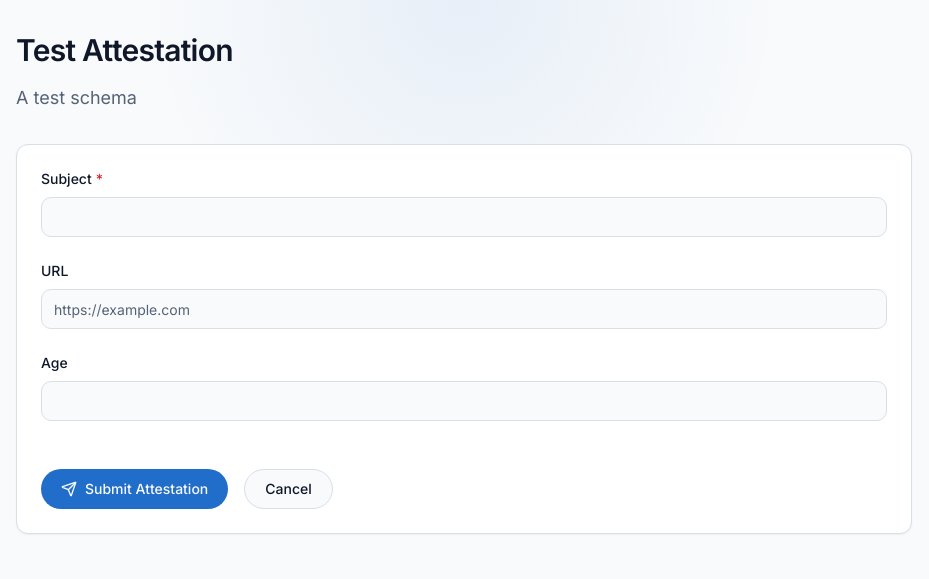
Test: AttestationForm › shows validation error for missing required field
The image size is (929, 579).
Click the button "Submit Attestation": [135, 489] box [41,469,228,509]
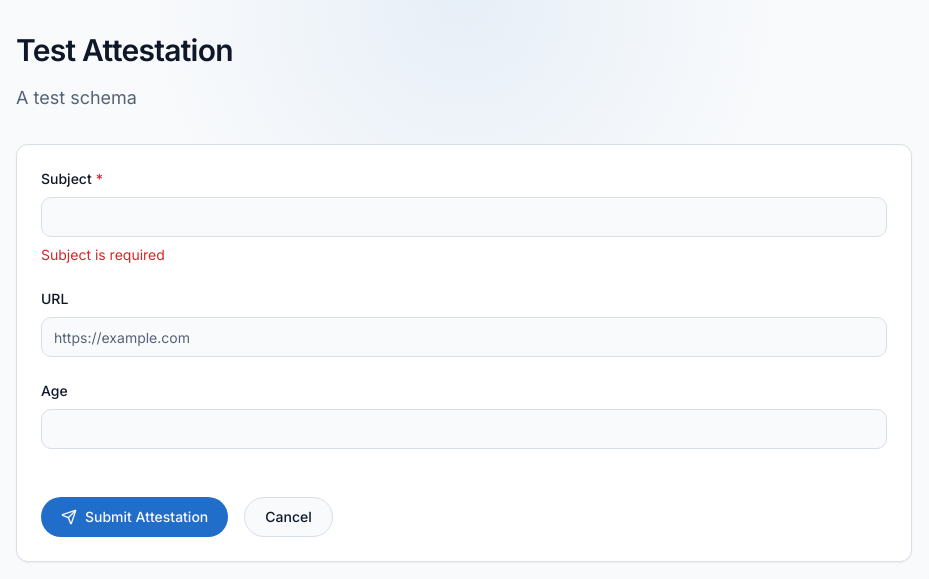
Result: the text "Subject is required" is shown at [41,246,165,263]
